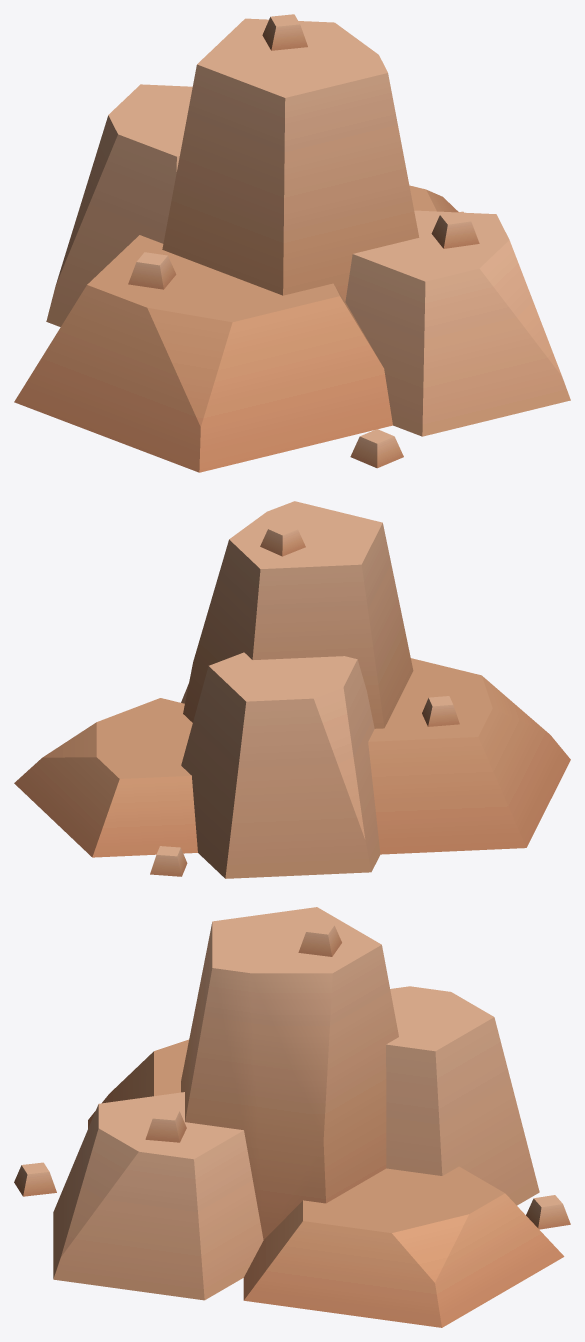
File: survival-kit-rock-sand-b.glb
3 renders of one model, top to bottom at view 1: azimuth 30°, elevation 25°; view 2: azimuth 150°, elevation 25°; view 3: azimuth 270°, elevation 25°, orthographic. The views are drawn at different scales.
Visible parts, largest first — view 1: rock-sand-b; view 2: rock-sand-b; view 3: rock-sand-b.
Part boxes in pixels (<box>): rock-sand-b: <box>14,14,570,472</box>; rock-sand-b: <box>14,501,570,878</box>; rock-sand-b: <box>14,907,570,1327</box>.
Size of the model in its own units: 0.7991 by 0.4486 by 0.7895.
1 material, 1 textured.
